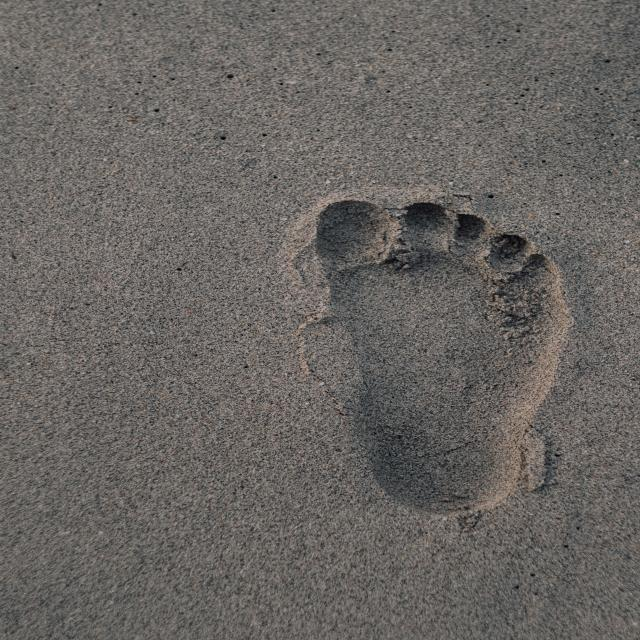human_footprint: (277, 188, 576, 528)
